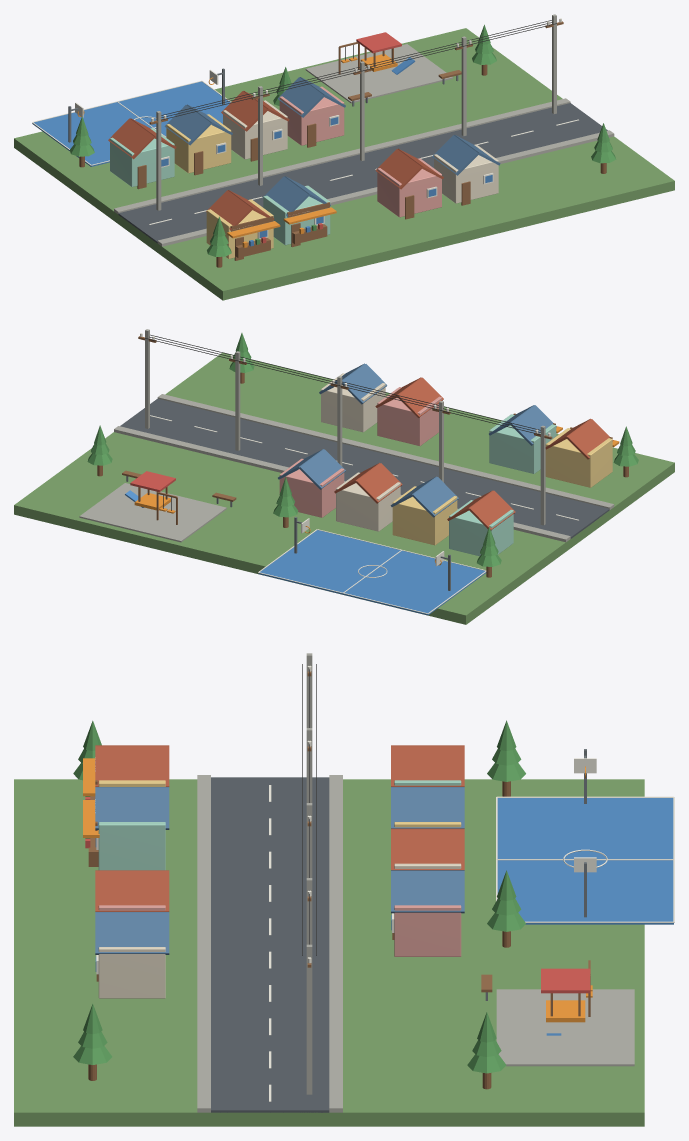
File: baranggay.fbx
3 views of the same model, one above another, from view 1: azimuth 30°, elevation 25°; view 2: azimuth 150°, elevation 25°; view 3: azimuth 270°, elevation 25° (orthographic). The views are drawn at different scales.
Visible parts, largest first — view 1: Entire Map, Main Barangay Road, Basketball Court, Playground Surface, North Sidewalk, House Walls.006, House Walls.003, House Walls.001, House Walls, House Walls.007, House Walls.002, South Sidewalk (+16 smaller); view 2: Entire Map, Main Barangay Road, Basketball Court, Playground Surface, South Sidewalk, House Walls.004, House Walls.006, House Walls.001, House Walls.002, House Walls.005, House Walls, House Walls.007 (+15 smaller); view 3: Entire Map, Main Barangay Road, Basketball Court, Playground Surface, North Sidewalk, South Sidewalk, House Walls.003, House Walls.007, House Walls.005, Pitched Roof.007, Pitched Roof.015, Pitched Roof.013 (+8 smaller).
Boxes of the visible parts, <box> form: Entire Map: <box>14,28,674,300</box>; Main Barangay Road: <box>118,103,607,243</box>; Basketball Court: <box>32,81,230,166</box>; Playground Surface: <box>305,44,452,103</box>; North Sidewalk: <box>114,98,570,214</box>; House Walls.006: <box>377,158,441,217</box>; House Walls.003: <box>279,86,344,145</box>; House Walls.001: <box>166,114,231,173</box>; House Walls: <box>110,128,174,186</box>; House Walls.007: <box>434,144,498,203</box>; House Walls.002: <box>223,100,287,159</box>; South Sidewalk: <box>157,130,614,246</box>; Entire Map: <box>14,352,674,624</box>; Main Barangay Road: <box>120,398,609,538</box>; Basketball Court: <box>258,530,486,615</box>; Playground Surface: <box>79,483,226,542</box>; South Sidewalk: <box>157,394,614,509</box>; House Walls.004: <box>545,428,612,487</box>; House Walls.006: <box>377,387,441,445</box>; House Walls.001: <box>392,486,457,545</box>; House Walls.002: <box>336,472,400,531</box>; House Walls.005: <box>489,414,556,473</box>; House Walls: <box>449,500,513,556</box>; House Walls.007: <box>321,373,385,432</box>; Entire Map: <box>14,779,644,1126</box>; Main Barangay Road: <box>211,777,329,1112</box>; Basketball Court: <box>497,798,673,924</box>; Playground Surface: <box>496,989,634,1066</box>; North Sidewalk: <box>329,775,342,1112</box>; South Sidewalk: <box>197,775,210,1112</box>; House Walls.003: <box>394,905,461,956</box>; House Walls.007: <box>98,947,165,998</box>; House Walls.005: <box>98,822,165,870</box>; Pitched Roof.007: <box>391,871,464,913</box>; Pitched Roof.015: <box>95,912,169,954</box>; Pitched Roof.013: <box>95,871,169,911</box>.
Bounding box in the file's own units: 4000 × 920 × 3355.
